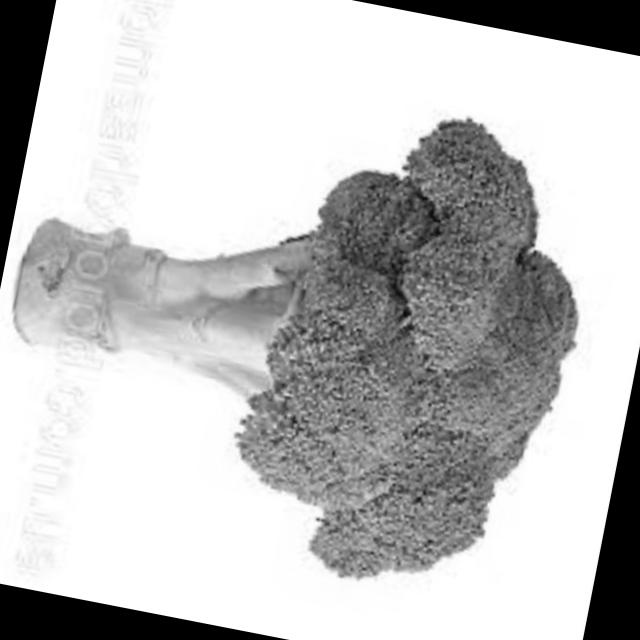bong cai xanh: (0, 32, 617, 618)
